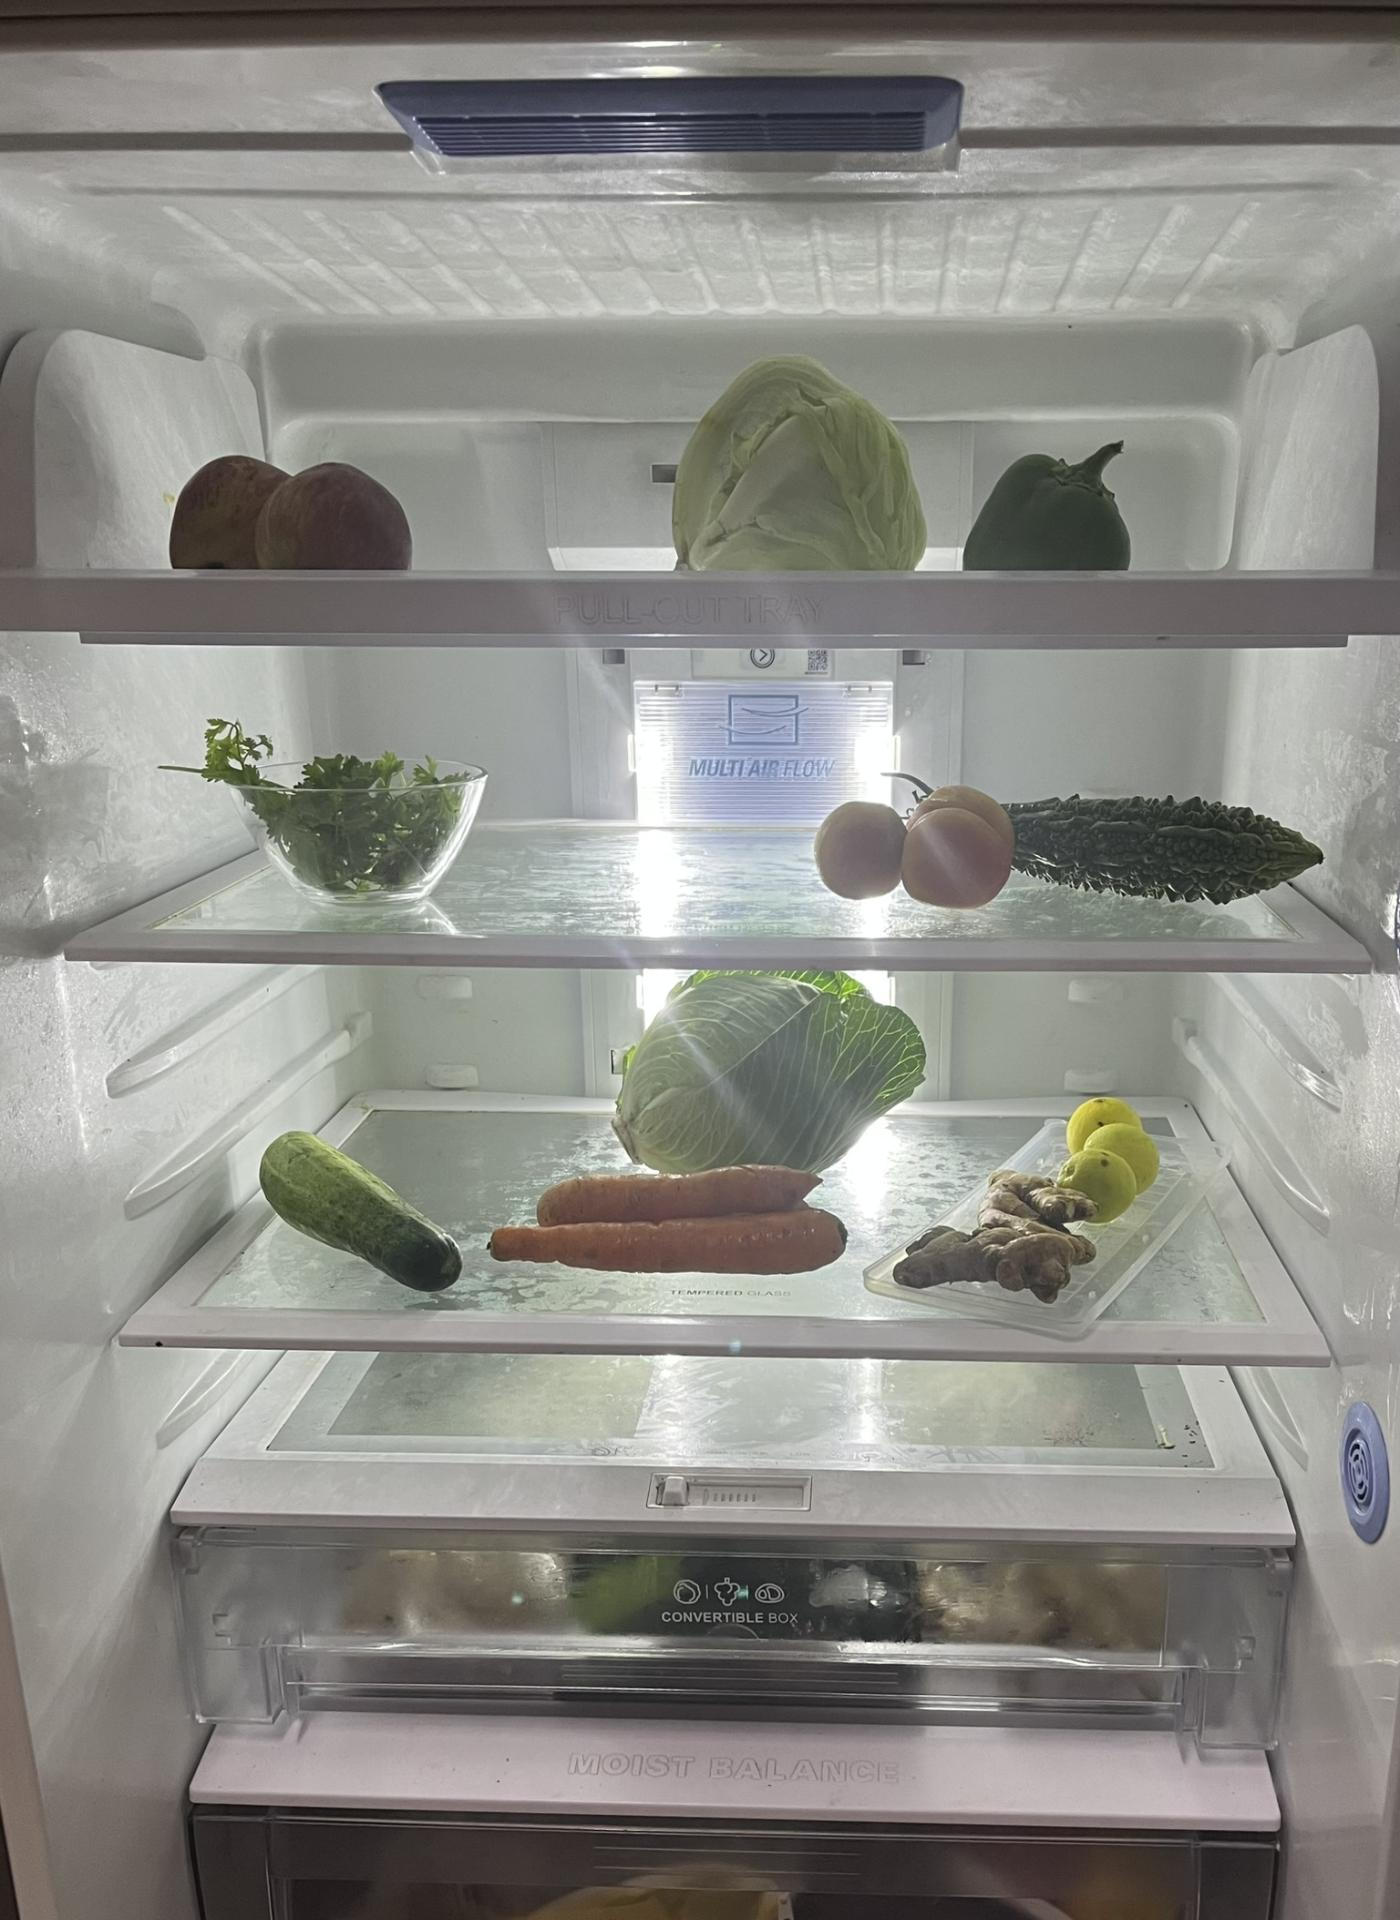apple: (165, 454, 418, 576)
cabbage: (613, 966, 920, 1170)
capsicum: (961, 438, 1132, 573)
carrots: (487, 1169, 854, 1275)
coriander: (201, 720, 457, 894)
cucumber: (259, 1128, 460, 1292)
ginger: (896, 1172, 1091, 1290)
lemon: (1066, 1084, 1153, 1212)
lettuce: (664, 352, 930, 568)
tomato: (815, 780, 1016, 908)
